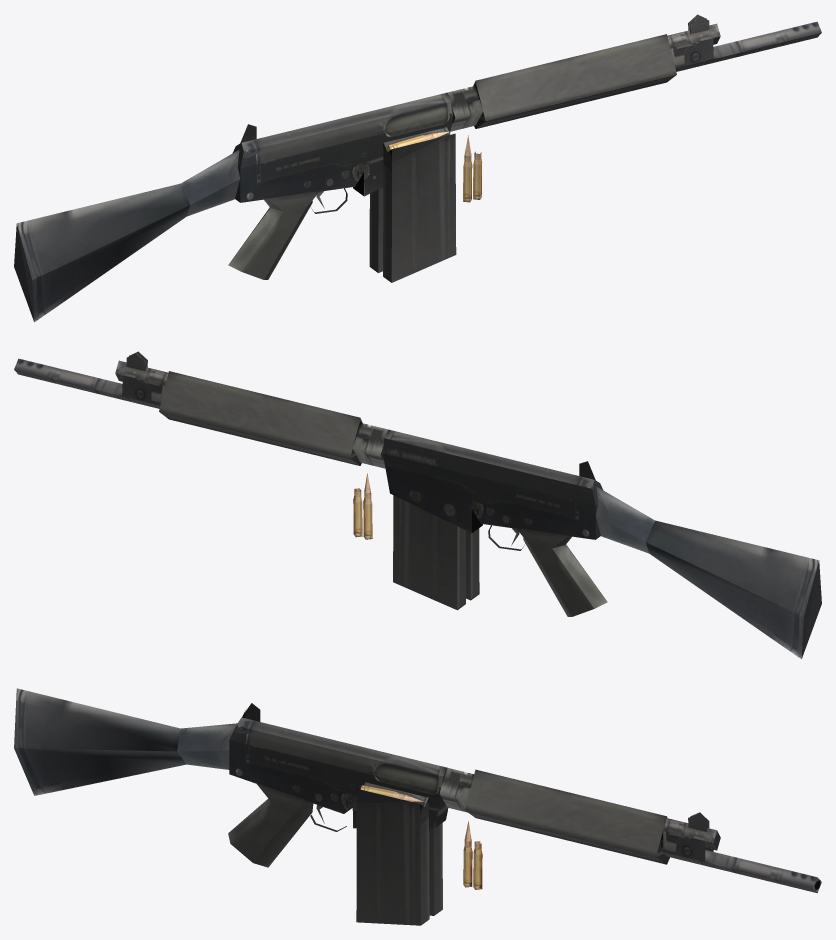
File: FAL.obj
3 renders of one model, top to bottom at view 1: azimuth 30°, elevation 25°; view 2: azimuth 150°, elevation 25°; view 3: azimuth 330°, elevation 25°, orthographic.
Visible parts, largest first — view 1: FAL, FAL_Magazene.Full, FAL_Magazene; view 2: FAL, FAL_Magazene, FAL_Magazene.Full; view 3: FAL, FAL_Magazene.Full, FAL_Magazene, 308_Bullet, 308_Bullet.empty.
Part boxes in pixels (x1,y1,x2,y2): FAL: [14, 14, 821, 322]; FAL_Magazene.Full: [383, 127, 456, 282]; FAL_Magazene: [369, 187, 383, 272]; FAL: [14, 351, 821, 659]; FAL_Magazene: [393, 495, 465, 610]; FAL_Magazene.Full: [466, 528, 479, 600]; FAL: [14, 688, 821, 893]; FAL_Magazene.Full: [356, 782, 429, 925]; FAL_Magazene: [429, 823, 442, 915]; 308_Bullet: [463, 821, 472, 887]; 308_Bullet.empty: [473, 841, 482, 889].
Size of the model in its own units: 4.73 by 0.9914 by 0.2879.
3 materials, 3 textured.
